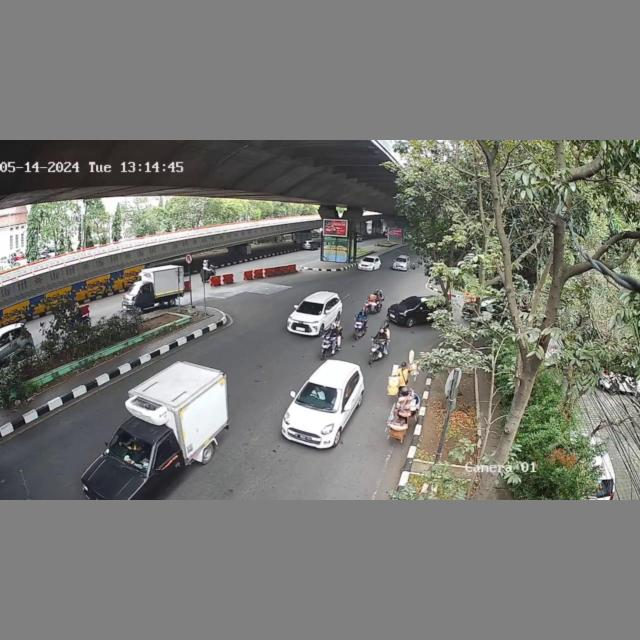windshield: (102, 429, 157, 472), (296, 382, 342, 411), (296, 301, 326, 316)
